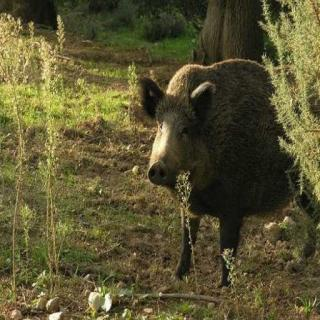Pig: (127, 20, 320, 287)
